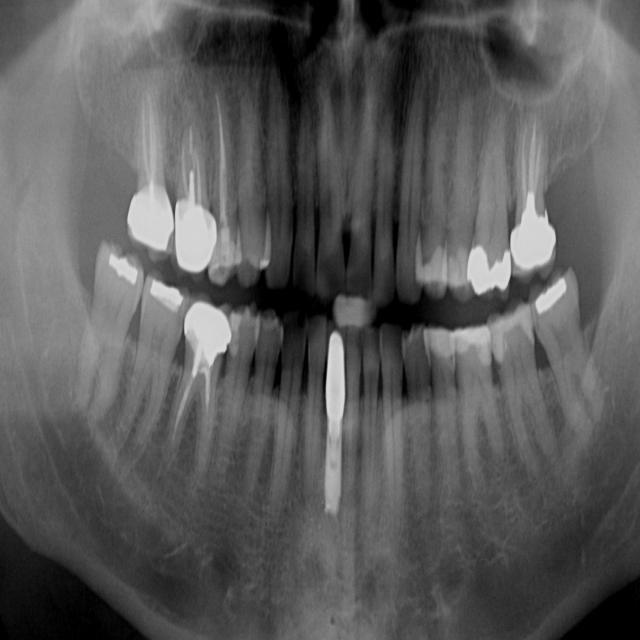dentin-curugu: (279, 312, 308, 362), (288, 245, 316, 290)
dolgu: (529, 273, 577, 316), (418, 239, 452, 288), (103, 249, 146, 287), (144, 276, 186, 314)
implant: (320, 323, 348, 520)
kanal-tedavisi: (165, 348, 220, 453), (505, 116, 549, 224), (203, 90, 237, 228), (129, 102, 170, 204), (169, 108, 209, 212)
kaplama: (182, 307, 234, 358), (173, 208, 215, 270), (510, 215, 554, 274), (129, 190, 172, 247), (464, 242, 514, 291)
